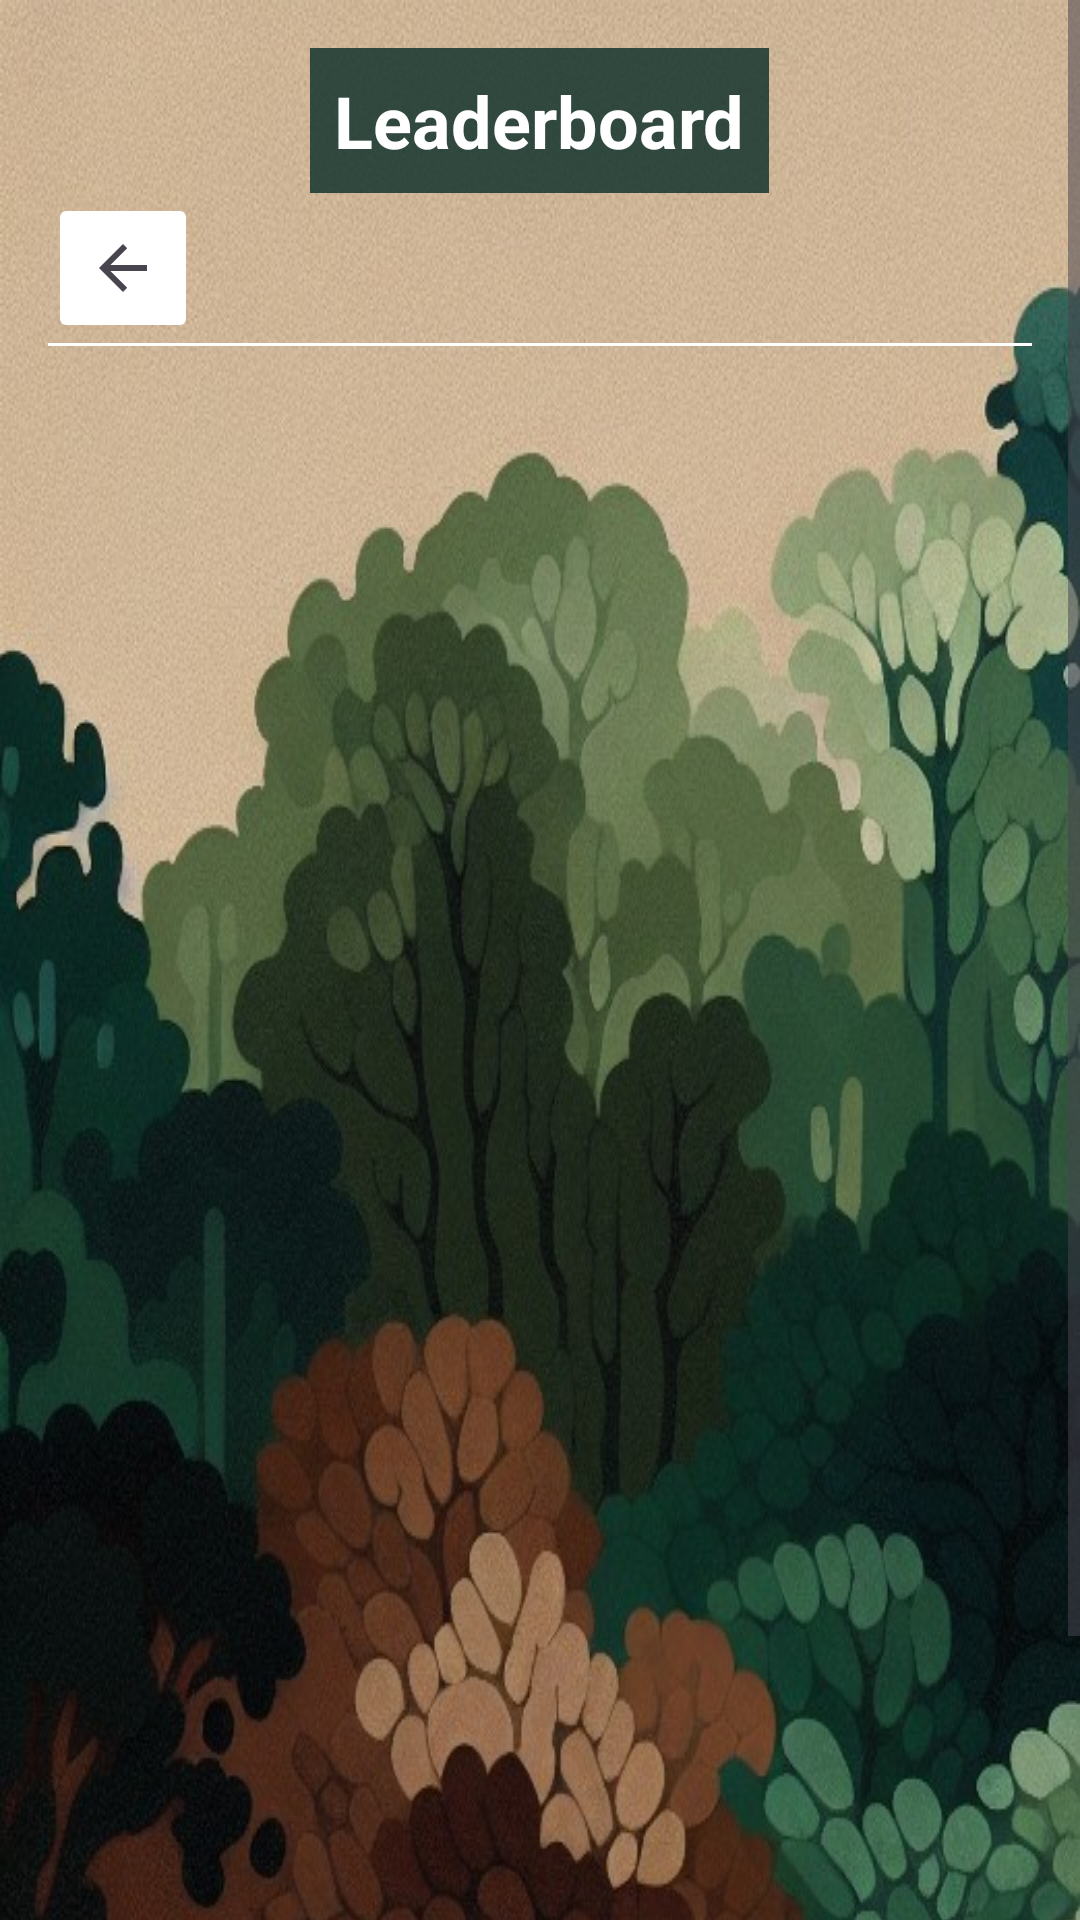

Screen size 1080w x 1920h. Icon name, then its box in pixels as (x1, y1, x2, y2):
Back to Homepage: (60, 211, 196, 325)
